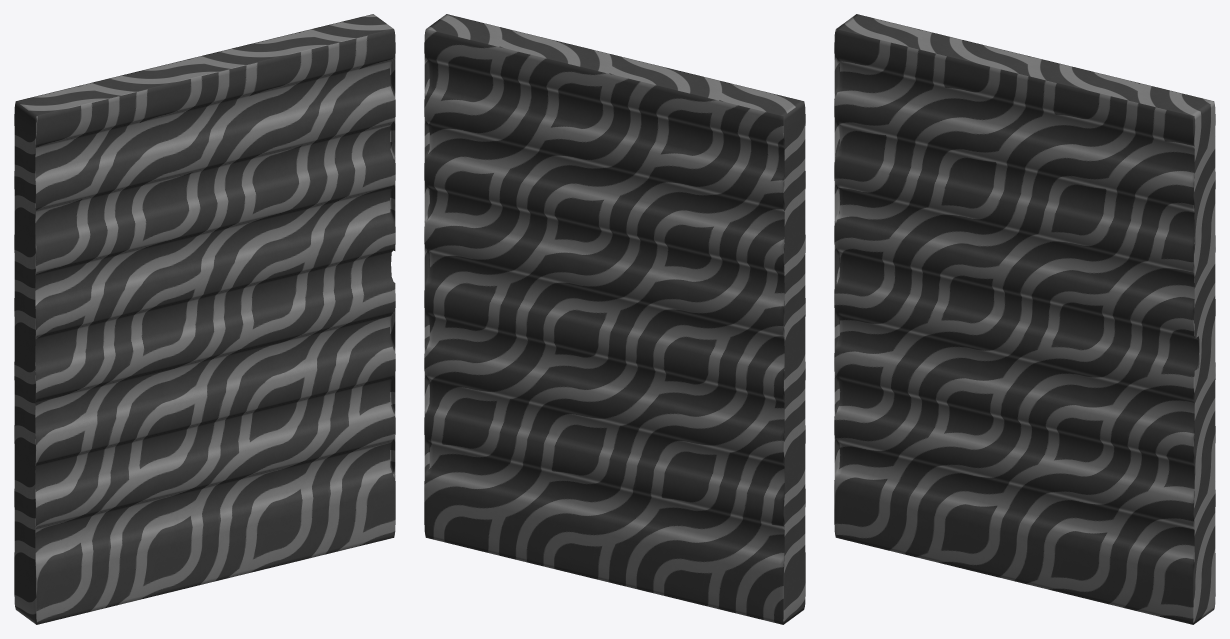
The model's file is puerta-1.obj.
3 views of the same model, side by side, from view 1: azimuth 30°, elevation 25°; view 2: azimuth 150°, elevation 25°; view 3: azimuth 330°, elevation 25° (orthographic).
Visible parts, largest first — view 1: polySurface2543 polySurface2160; view 2: polySurface2543 polySurface2160; view 3: polySurface2543 polySurface2160.
Boxes of the visible parts, <box> form: polySurface2543 polySurface2160: <box>14,14,395,624</box>; polySurface2543 polySurface2160: <box>424,14,805,624</box>; polySurface2543 polySurface2160: <box>834,14,1215,624</box>.
Size of the model in its own units: 7.98 by 10.77 by 0.8501.
1 material, 1 textured.
